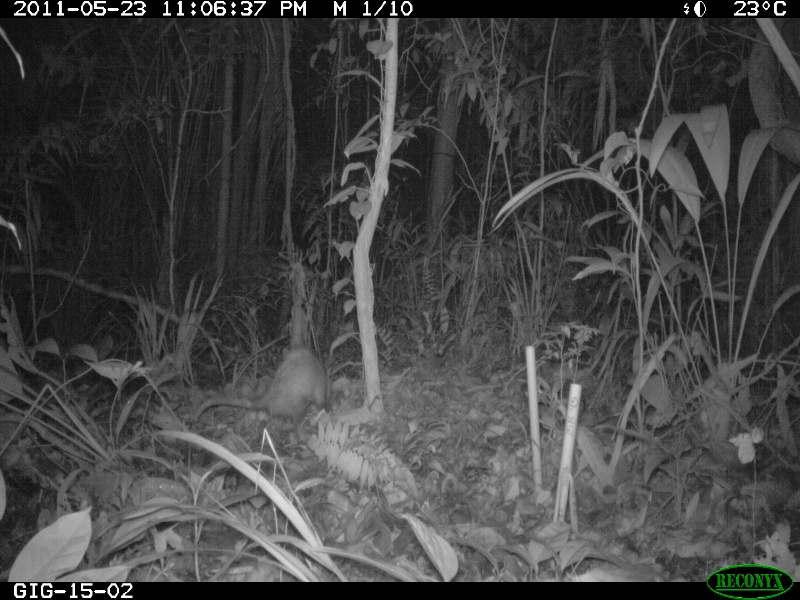opossum: (190, 344, 328, 436)
